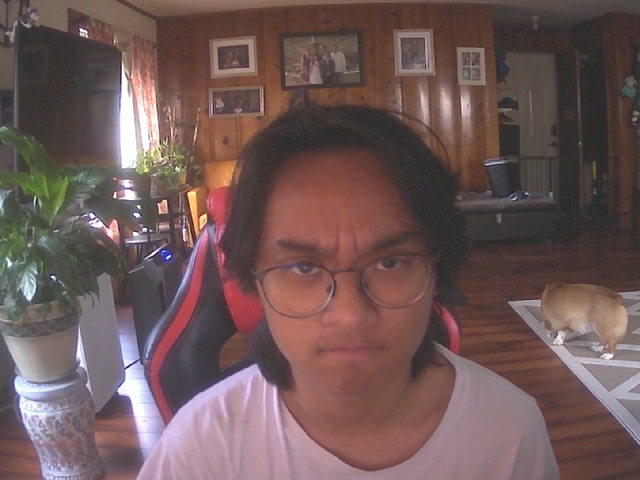anger: (247, 119, 451, 399)
